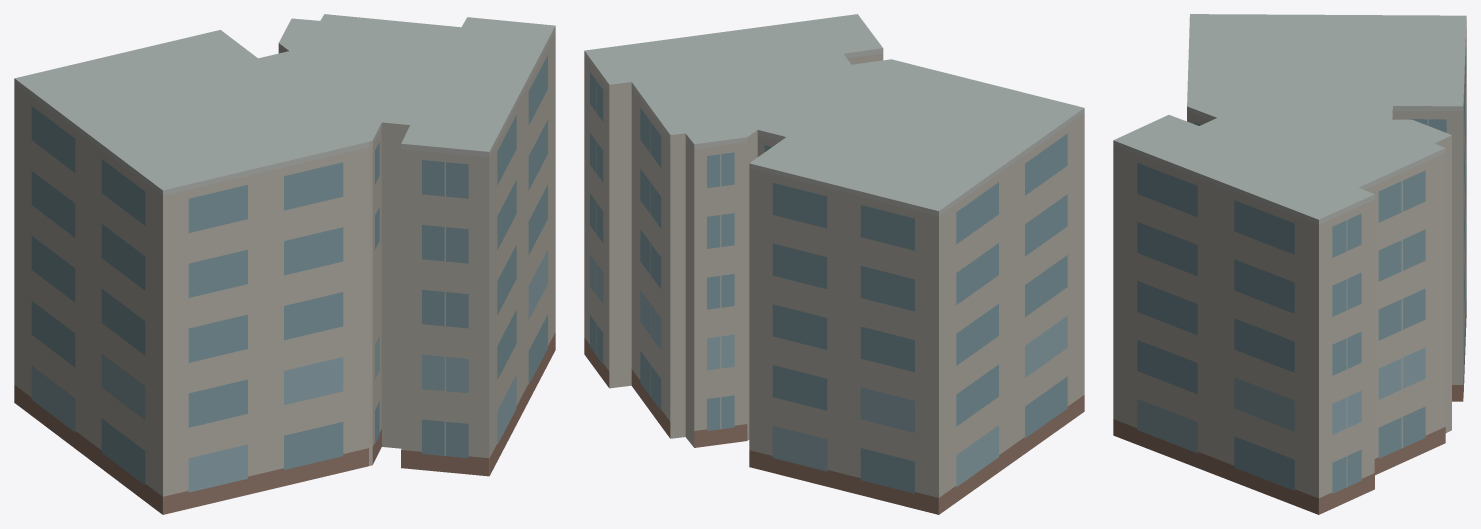
File: survey-upis-33006426.glb
3 views of the same model, side by side, from view 1: azimuth 30°, elevation 25°; view 2: azimuth 150°, elevation 25°; view 3: azimuth 270°, elevation 25° (orthographic). The views are drawn at different scales.
Visible parts, largest first — view 1: survey-upis-33006426.tmp; view 2: survey-upis-33006426.tmp; view 3: survey-upis-33006426.tmp.
Boxes of the visible parts, <box> form: survey-upis-33006426.tmp: <box>14,14,555,514</box>; survey-upis-33006426.tmp: <box>584,14,1084,514</box>; survey-upis-33006426.tmp: <box>1113,14,1466,514</box>.
Size of the model in its own units: 21.69 by 14.5 by 15.74.
